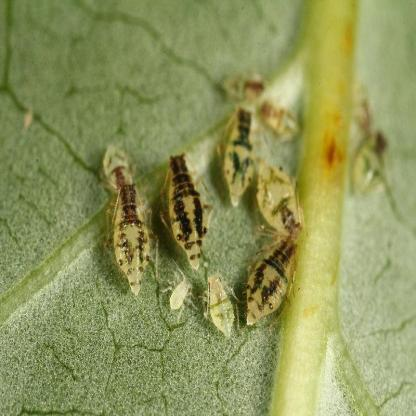aphid: (100, 156, 162, 304), (160, 140, 219, 270), (238, 225, 300, 338), (216, 97, 262, 209), (252, 157, 307, 240), (192, 265, 242, 342), (96, 127, 139, 194), (256, 94, 303, 152), (167, 272, 204, 318), (218, 70, 266, 104)
